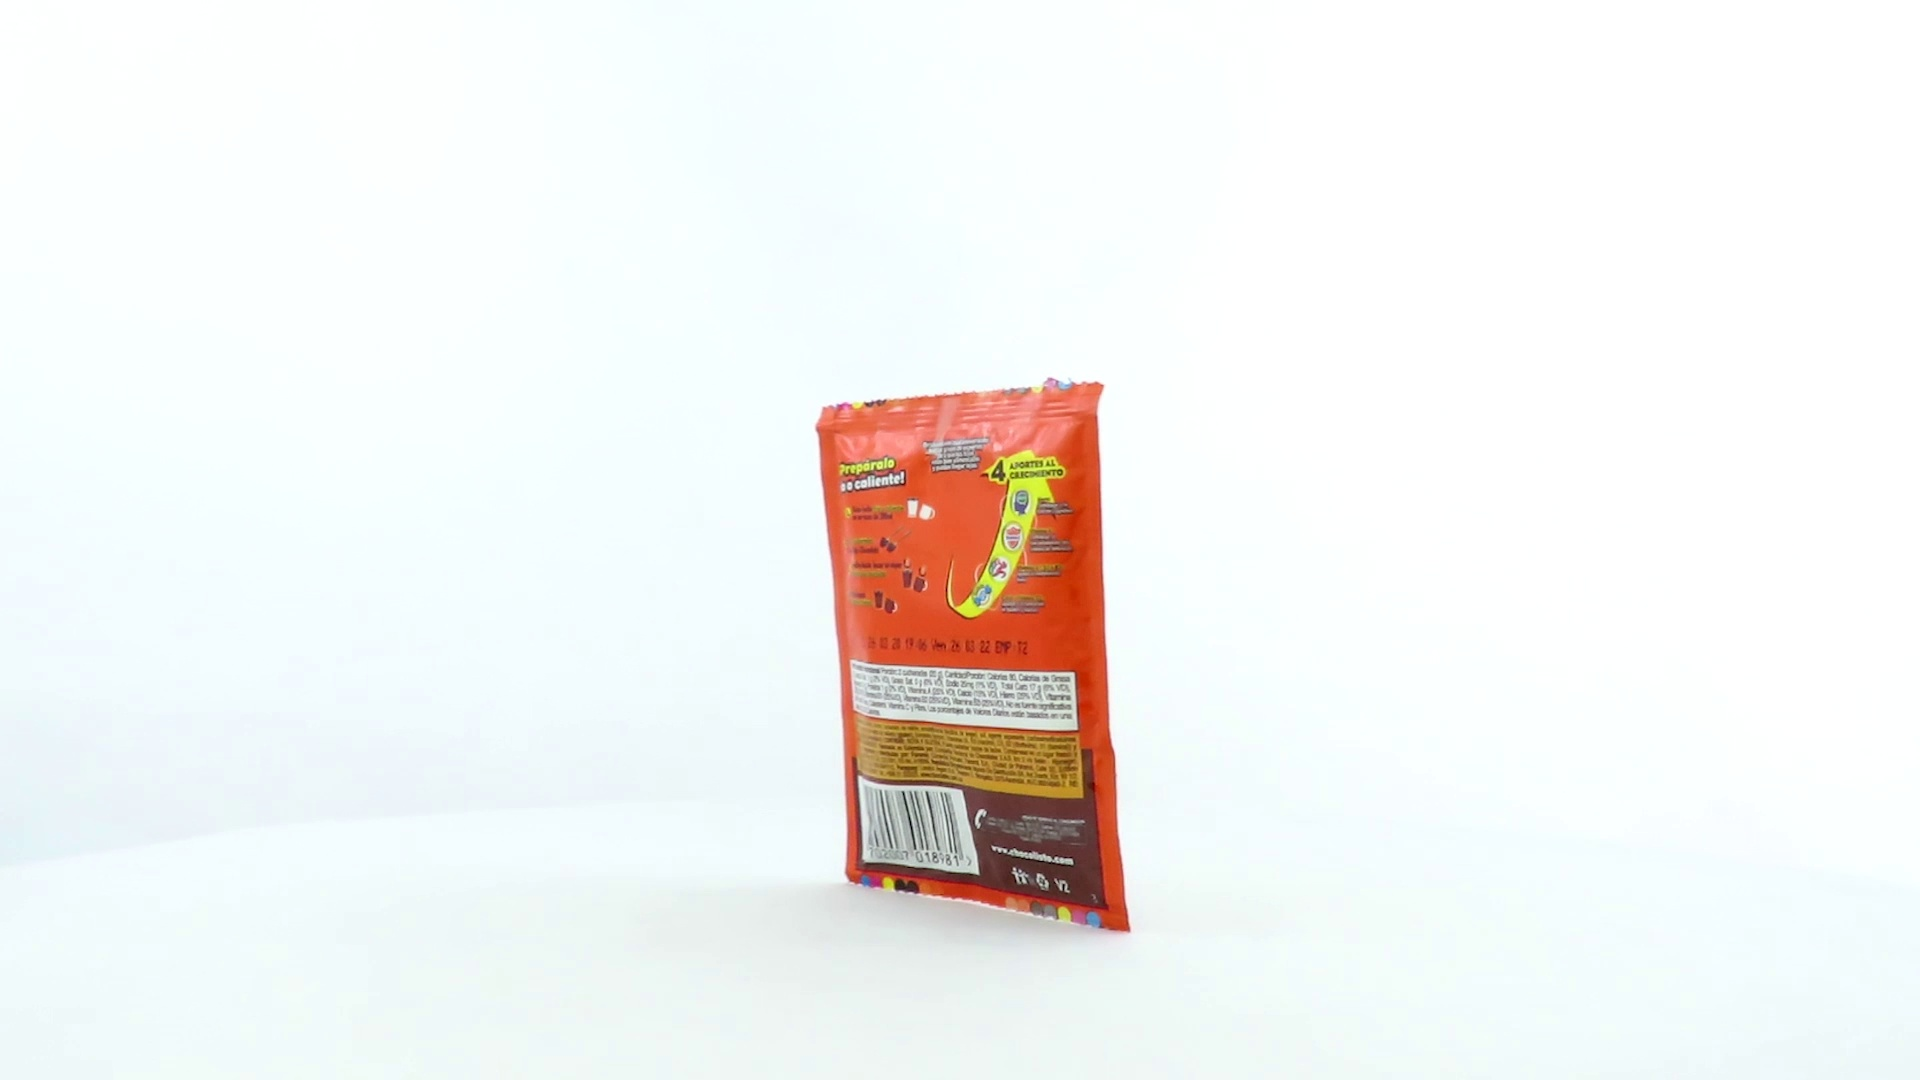COL0170103SOB02000: (810, 372, 1137, 939)
